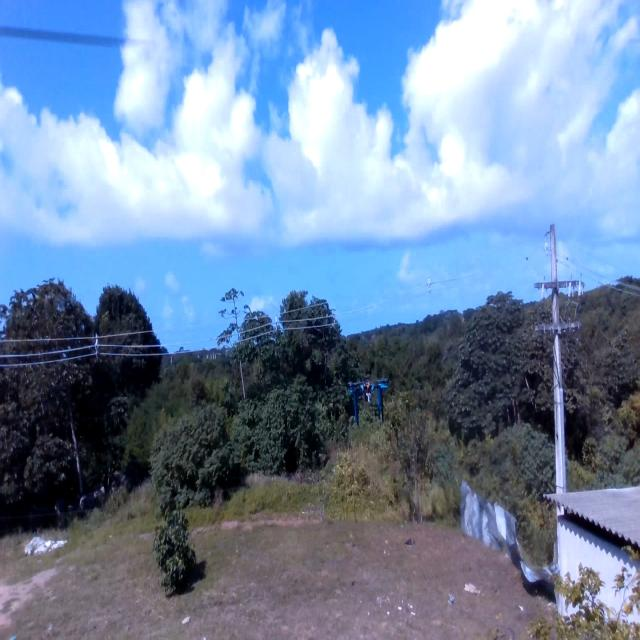-uav-: (334, 360, 399, 438)
